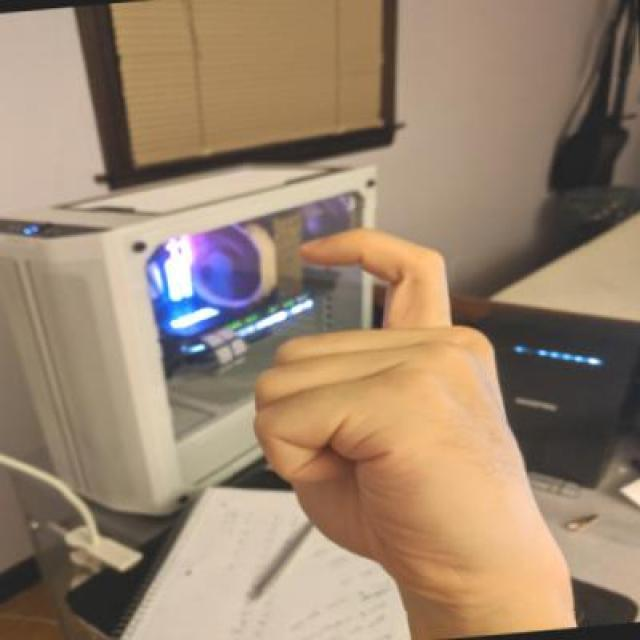X: (234, 208, 586, 611)
